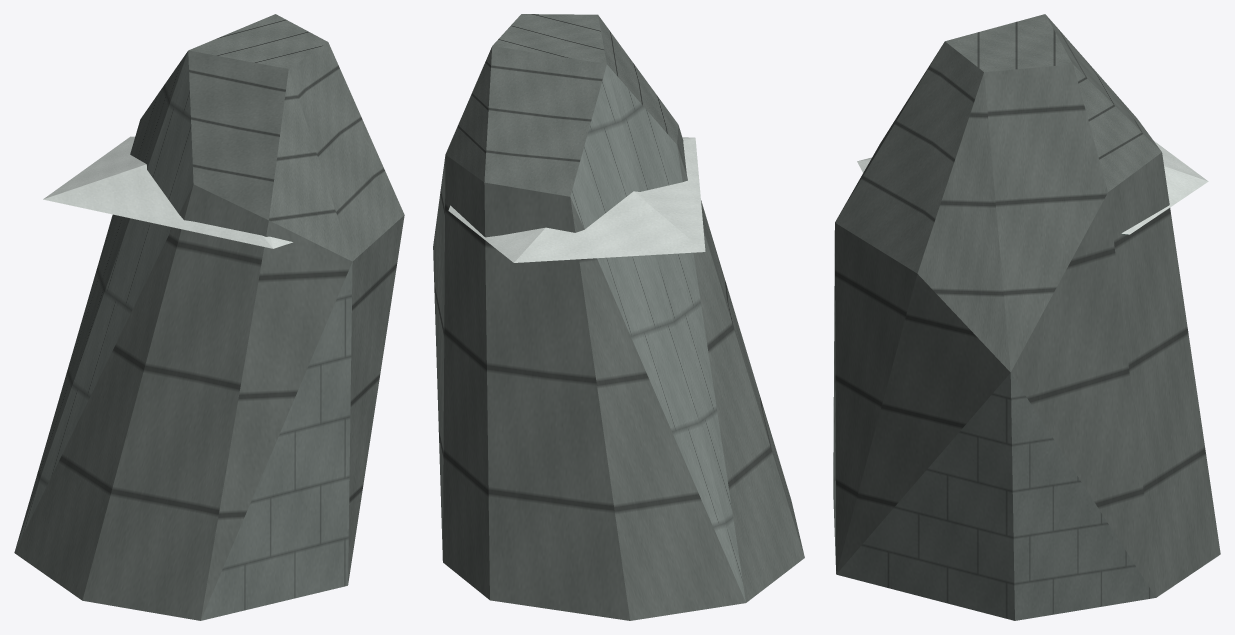
File: snow_rock_v02_lod.glb
3 renders of one model, left to right at view 1: azimuth 30°, elevation 25°; view 2: azimuth 150°, elevation 25°; view 3: azimuth 270°, elevation 25°, orthographic. The views are drawn at different scales.
Parts seen in each view (by area): view 1: snow_rock_v02; view 2: snow_rock_v02; view 3: snow_rock_v02.
Boxes of the visible parts, x1,y1,x2,y2 form: snow_rock_v02: [14, 14, 404, 620]; snow_rock_v02: [433, 14, 804, 620]; snow_rock_v02: [833, 14, 1220, 620].
Bounding box in the file's own units: 3.56 × 4.81 × 3.19.
1 material, 1 textured.
